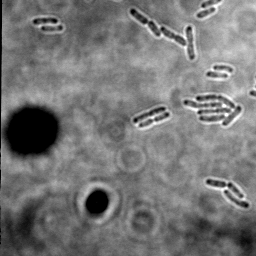Dividing: (137, 111, 171, 130), (160, 25, 188, 47), (186, 25, 197, 60)
Microcolony: (182, 93, 243, 128)
Rod: (132, 105, 168, 125), (223, 188, 251, 210), (195, 5, 218, 20), (227, 181, 245, 200), (129, 8, 149, 25), (31, 15, 59, 27), (205, 177, 228, 189), (147, 20, 162, 38), (212, 63, 235, 74), (205, 70, 229, 80), (39, 24, 65, 33)
